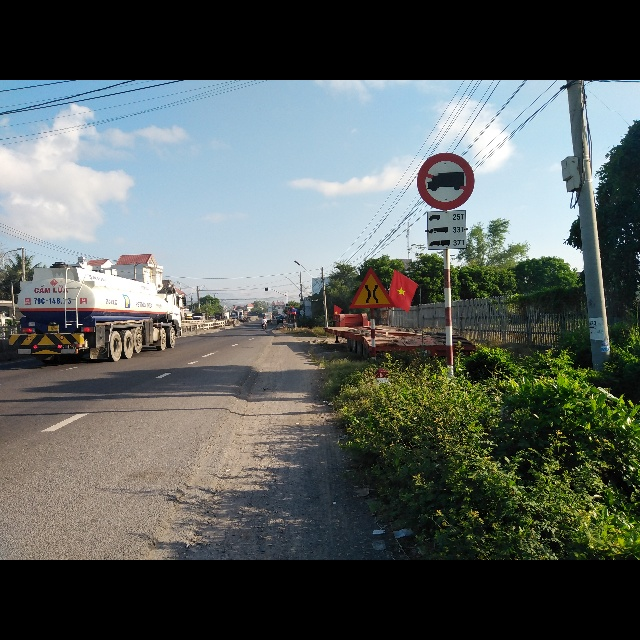Cấm xe tải: (416, 152, 473, 209)
Cầu hẹp: (349, 270, 394, 311)
